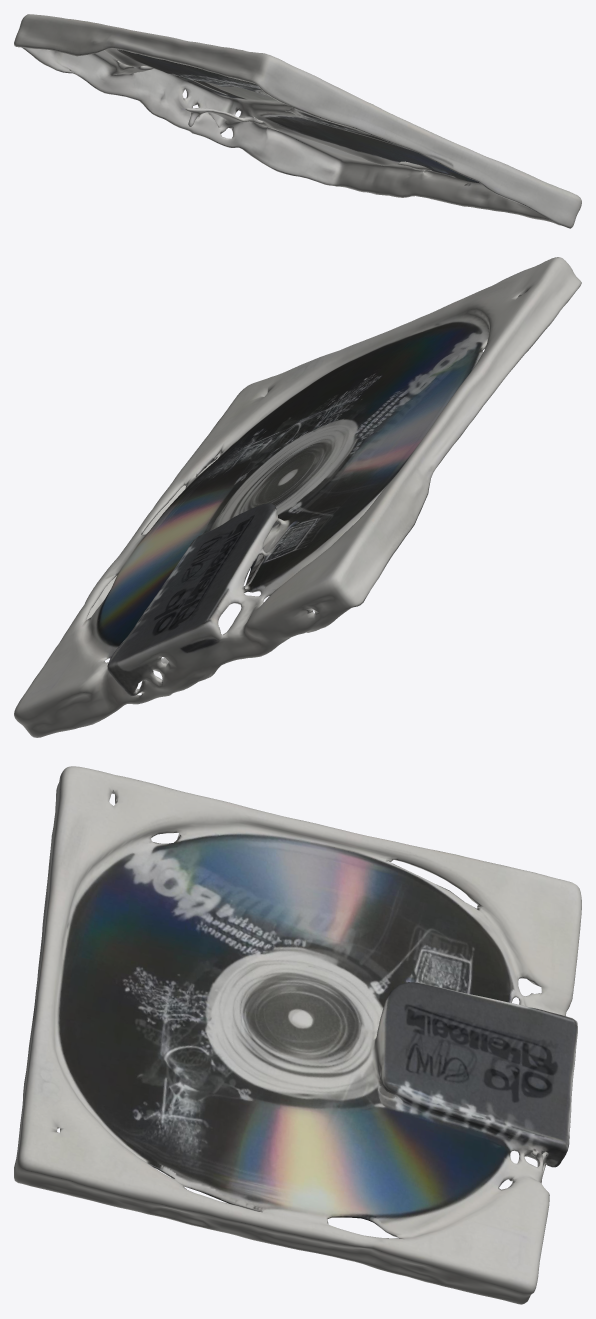
3 renders of one model, top to bottom at view 1: azimuth 30°, elevation 25°; view 2: azimuth 150°, elevation 25°; view 3: azimuth 270°, elevation 25°, orthographic. The views are drawn at different scales.
Parts seen in each view (by area): view 1: tripo_node_6a32b67e-6a07-473b-a285-6c7715565208; view 2: tripo_node_6a32b67e-6a07-473b-a285-6c7715565208; view 3: tripo_node_6a32b67e-6a07-473b-a285-6c7715565208.
Boxes of the visible parts, <box> form: tripo_node_6a32b67e-6a07-473b-a285-6c7715565208: <box>14,14,581,228</box>; tripo_node_6a32b67e-6a07-473b-a285-6c7715565208: <box>14,257,581,737</box>; tripo_node_6a32b67e-6a07-473b-a285-6c7715565208: <box>14,766,581,1304</box>.
Bounding box in the file's own units: 0.7452 × 0.7147 × 0.9448.
1 material, 1 textured.
